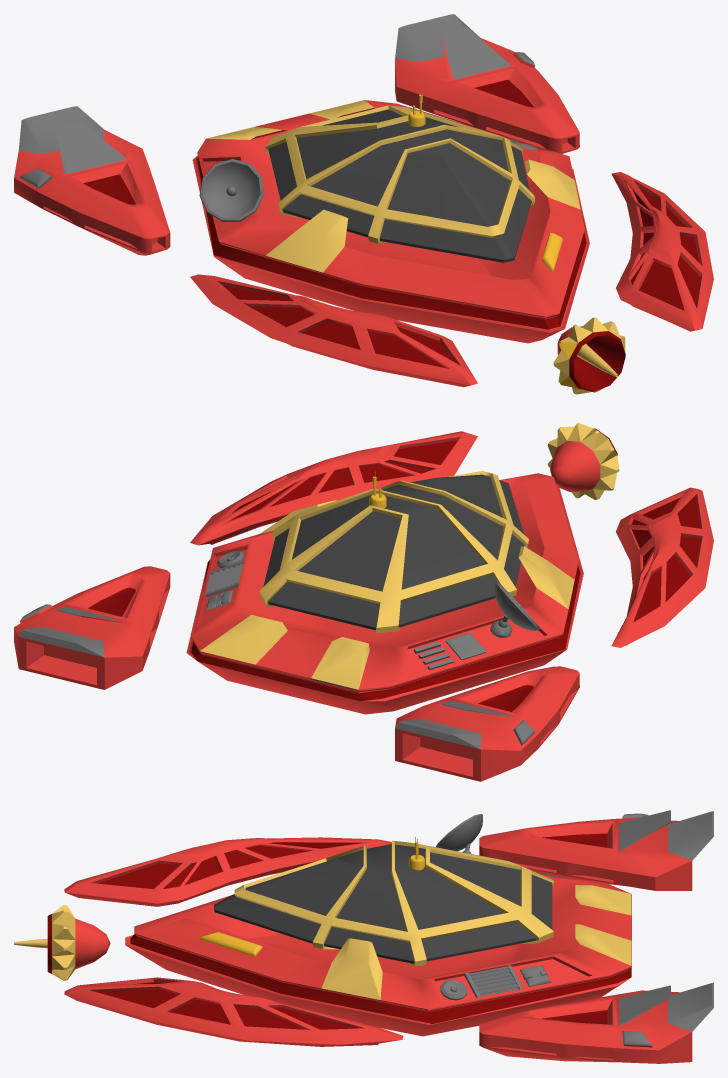
File: lazer_boi.glb
3 views of the same model, one above another, from view 1: azimuth 30°, elevation 25°; view 2: azimuth 150°, elevation 25°; view 3: azimuth 270°, elevation 25° (orthographic). The views are drawn at different scales.
Visible parts, largest first — view 1: pasted__pasted__pCube20; view 2: pasted__pasted__pCube20; view 3: pasted__pasted__pCube20.
Part boxes in pixels (x1,y1,x2,y2): pasted__pasted__pCube20: (14, 14, 713, 394); pasted__pasted__pCube20: (14, 423, 713, 781); pasted__pasted__pCube20: (14, 810, 713, 1063).
Bounding box in the file's own units: 7.38 × 2.4 × 9.47.
Materials: 1 (1 with a texture image).
